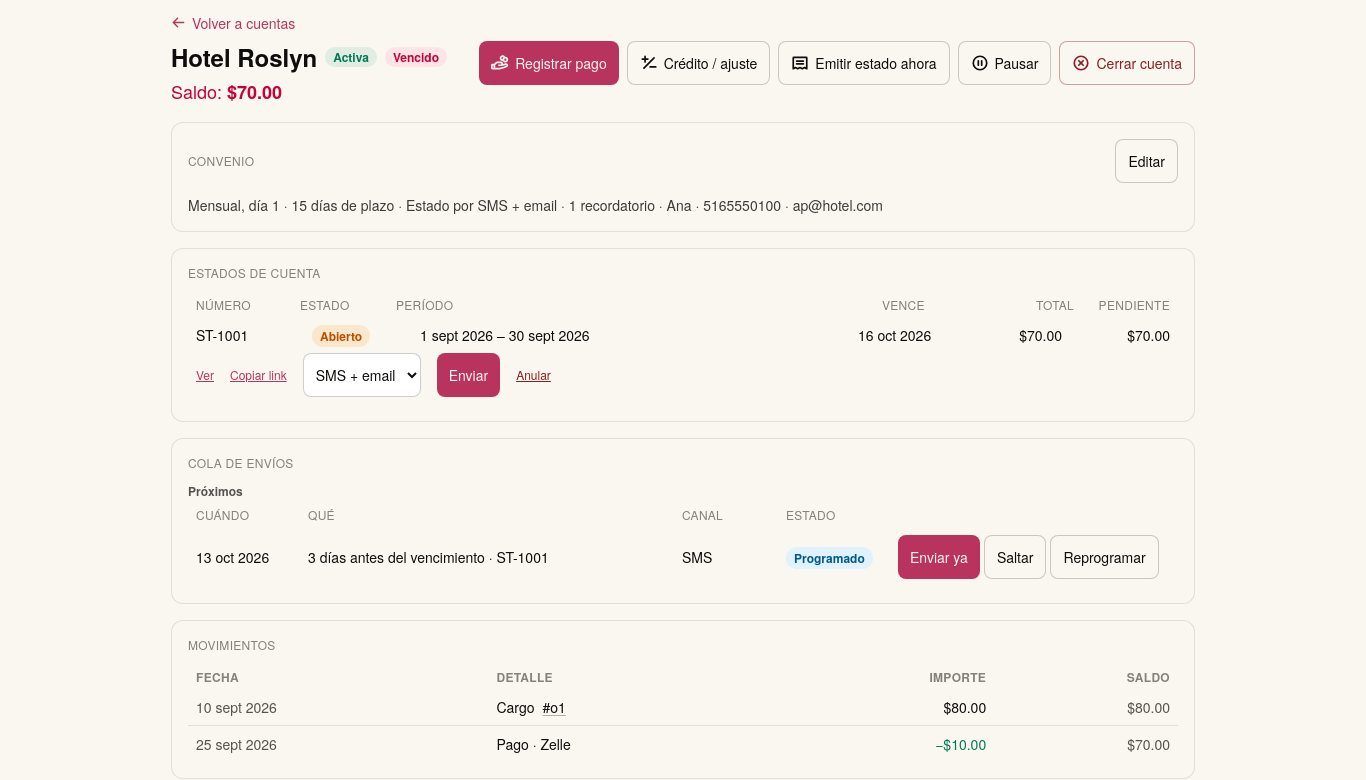
Scenario: AccountDetail › issuing a statement › sends once with no PATCH when no queued row exists for the statement
Click the button "Emitir estado ahora".
click(864, 62)  # box [778, 40, 950, 84]
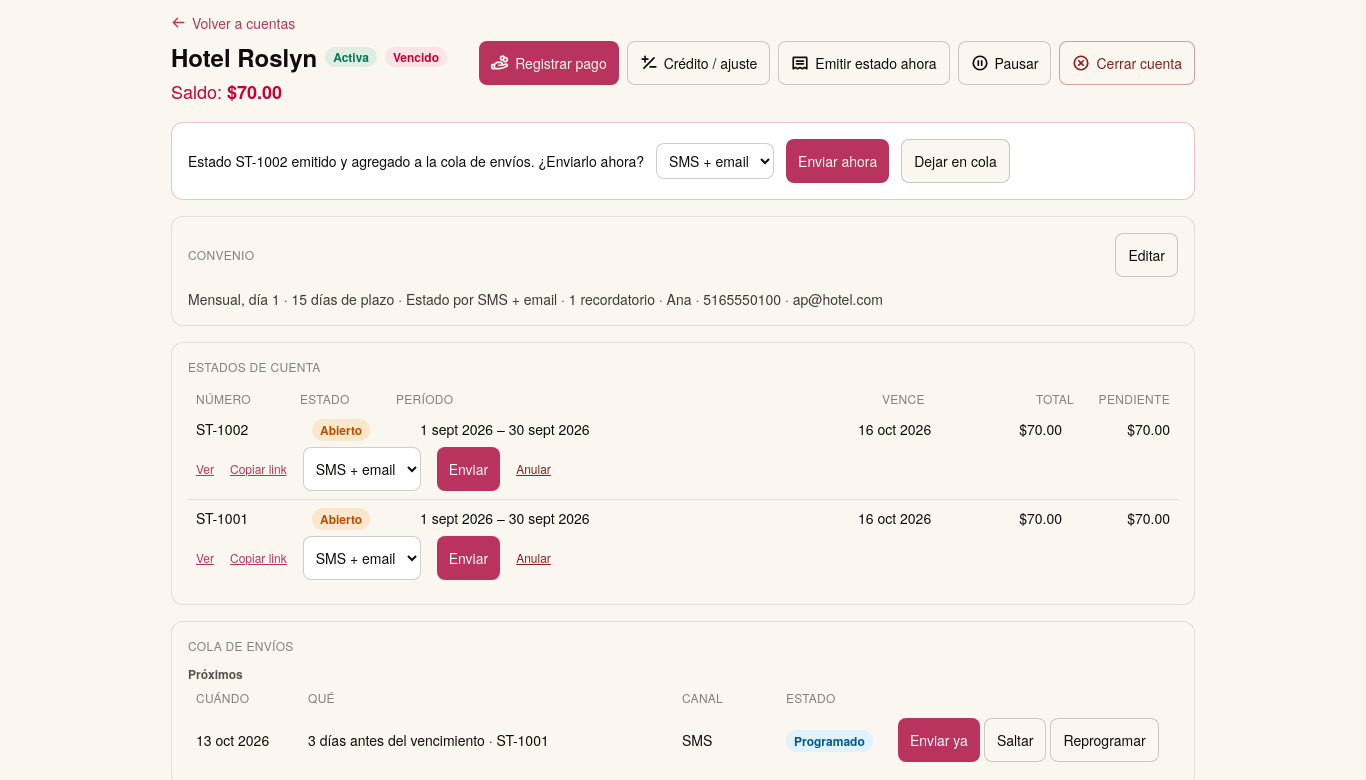
Expected: the text "emitido y agregado a la cola de envíos" is shown, [188, 150, 644, 170]
Click the button "Enviar ahora".
click(838, 160)  # box [786, 138, 889, 182]
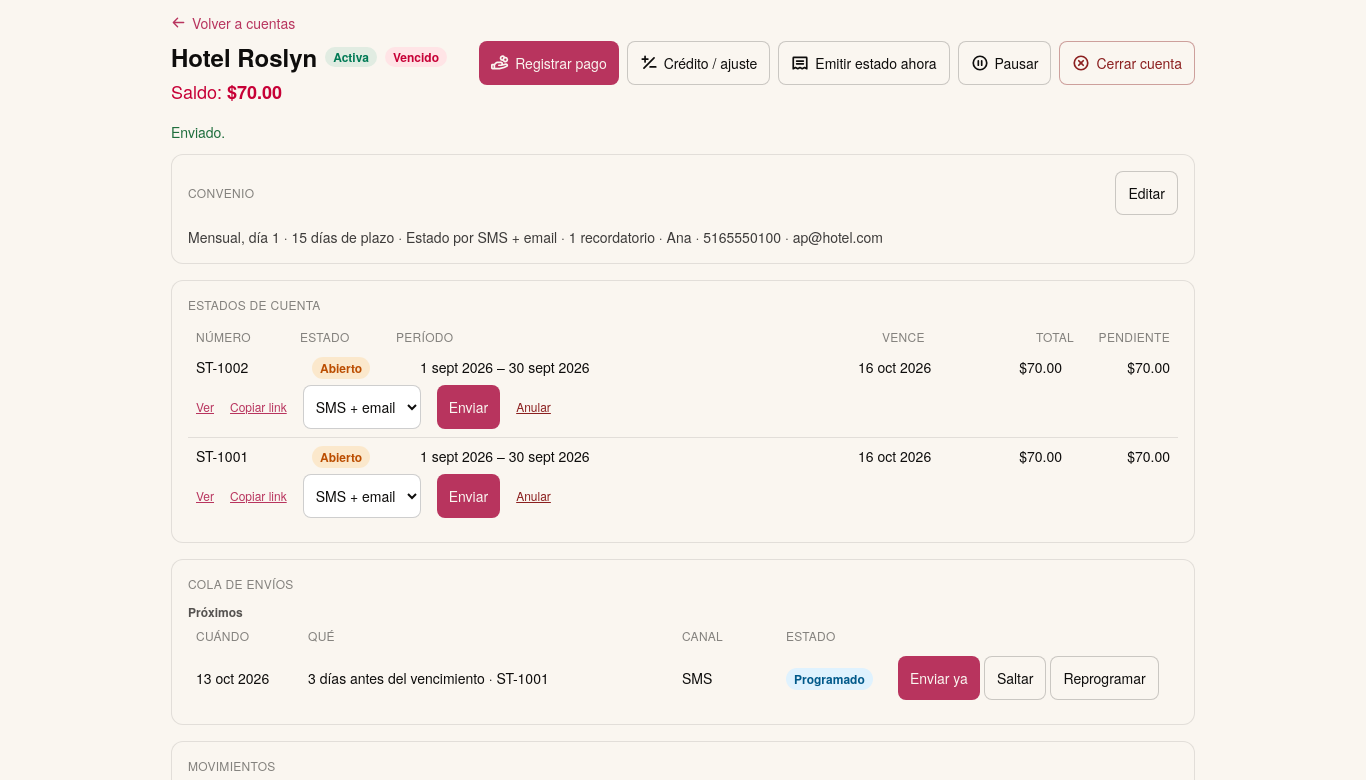
Expected: the text "Enviado." is shown, [171, 122, 225, 142]
